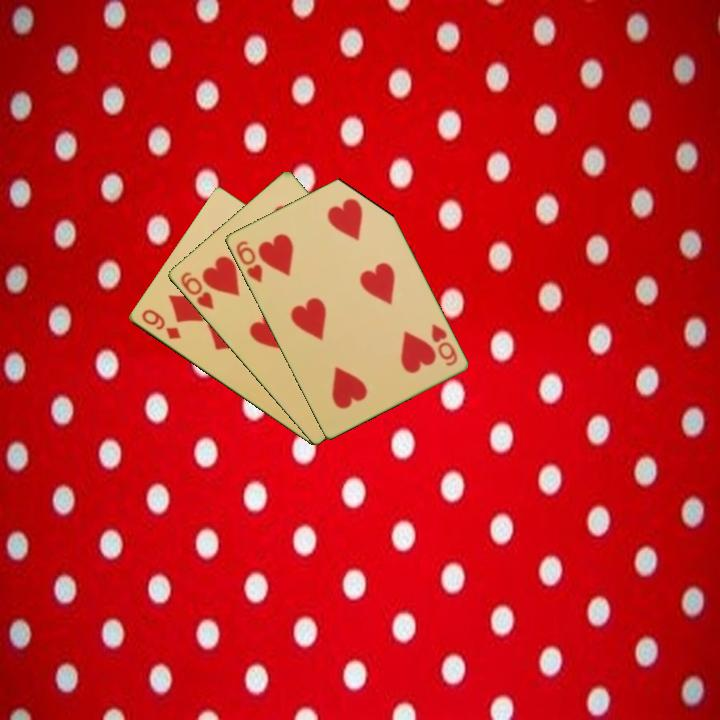6h: (176, 268, 217, 313), (232, 237, 265, 286), (427, 320, 460, 369)
9d: (138, 305, 184, 343)
